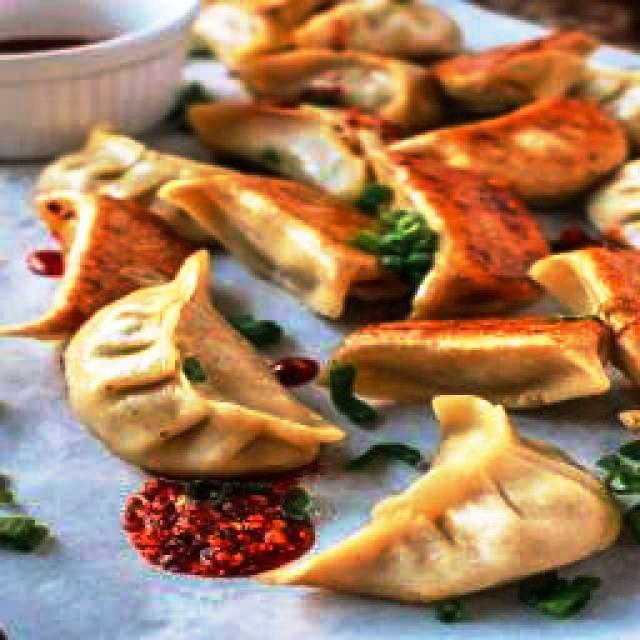fried_dumplings: (276, 392, 623, 604), (66, 247, 344, 473), (157, 176, 407, 318), (377, 149, 549, 321), (322, 318, 613, 411), (381, 95, 629, 204), (1, 190, 183, 338), (37, 125, 243, 241), (188, 104, 370, 196), (533, 249, 640, 392), (240, 51, 439, 127)
